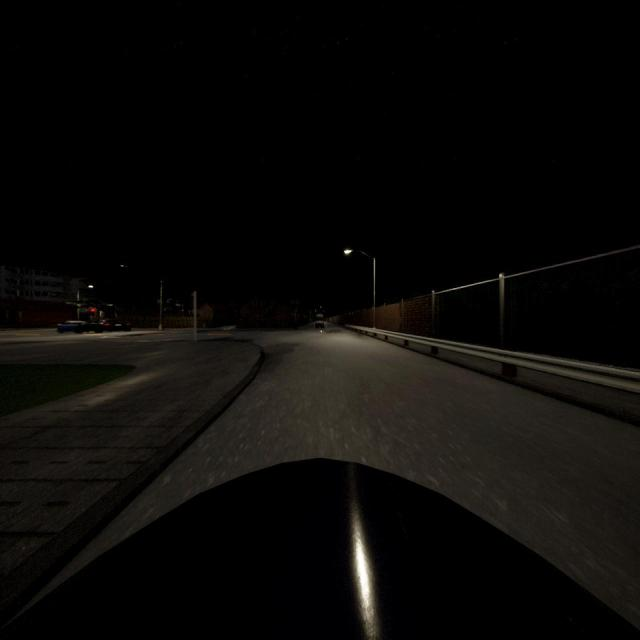Vehicle: (0, 452, 640, 640), (89, 318, 131, 332), (57, 321, 89, 334), (315, 314, 324, 329)
traffic_light: (89, 307, 96, 316)
